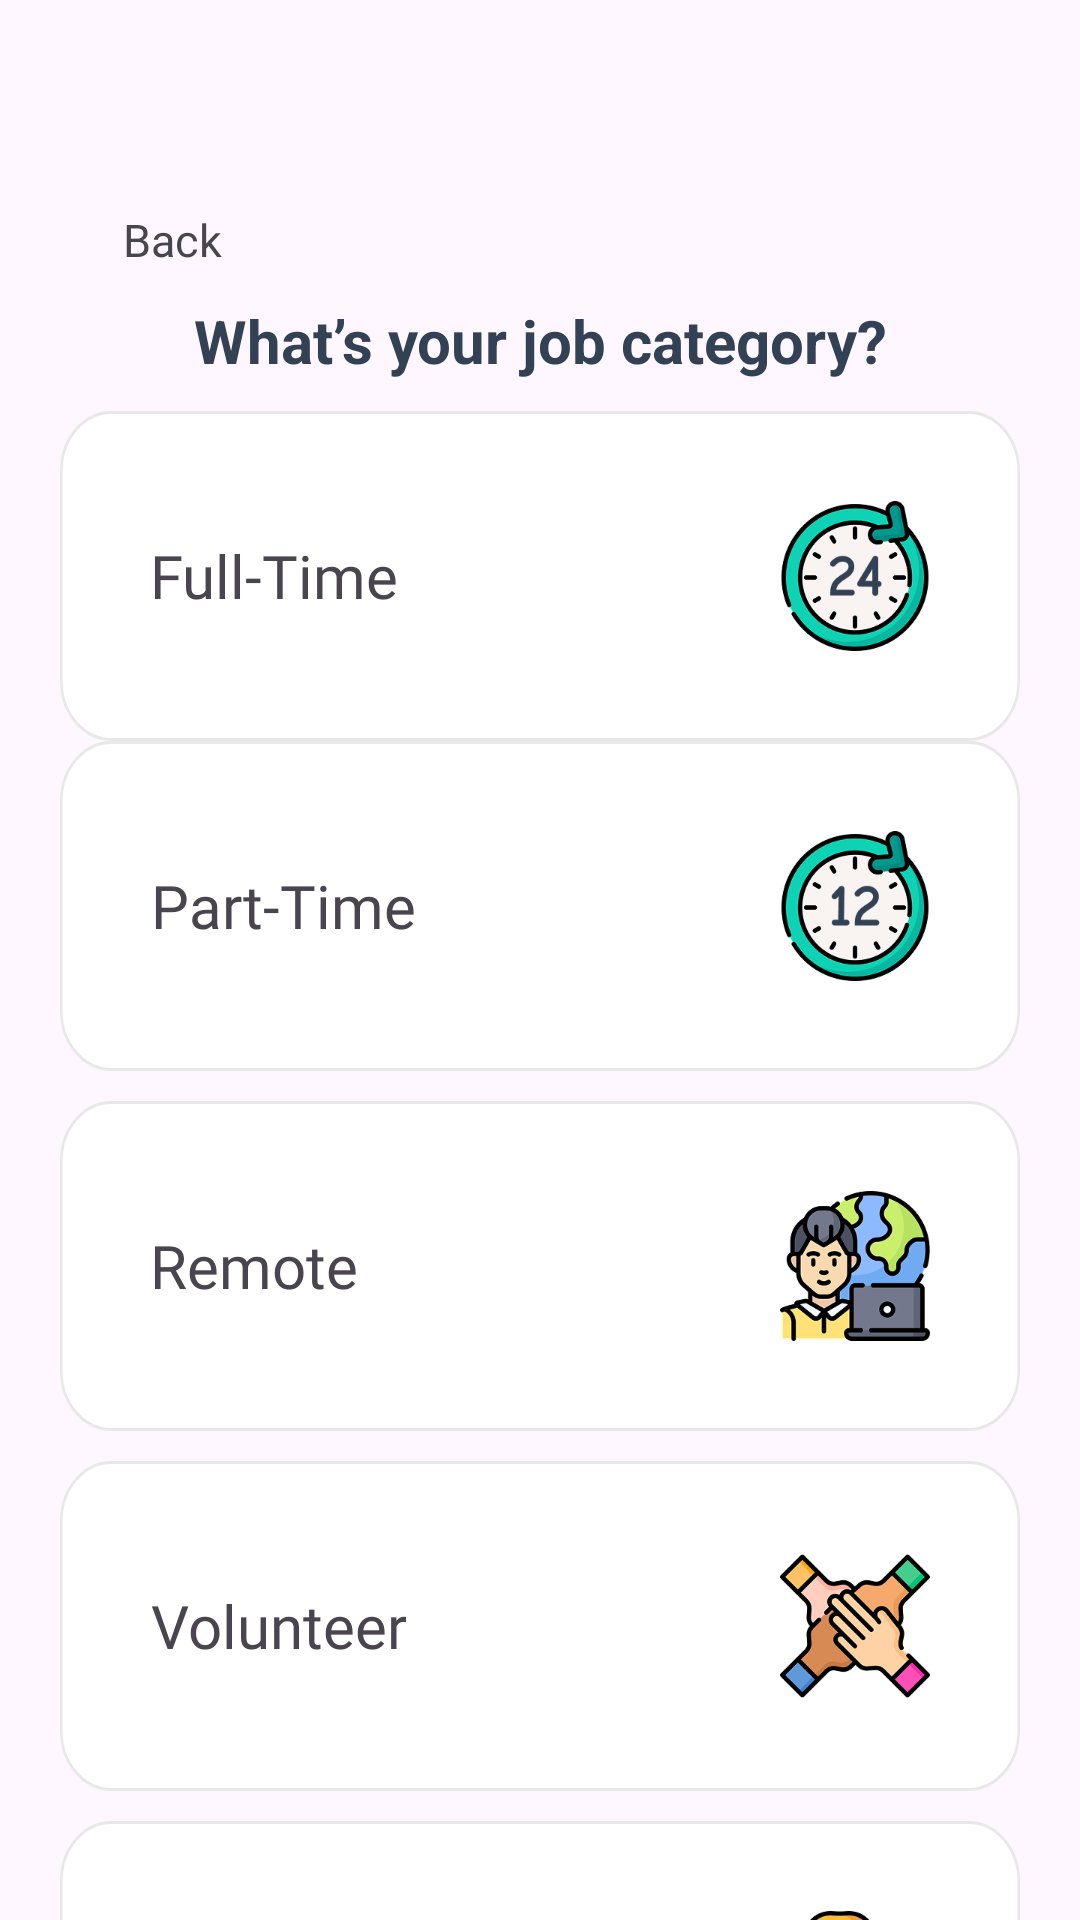

Named icons in this screenshot (1080px×1920px) and their centers, point (x, y):
full time: point (855, 576)
part time: point (855, 906)
remote: point (855, 1266)
volunteer: point (855, 1626)
